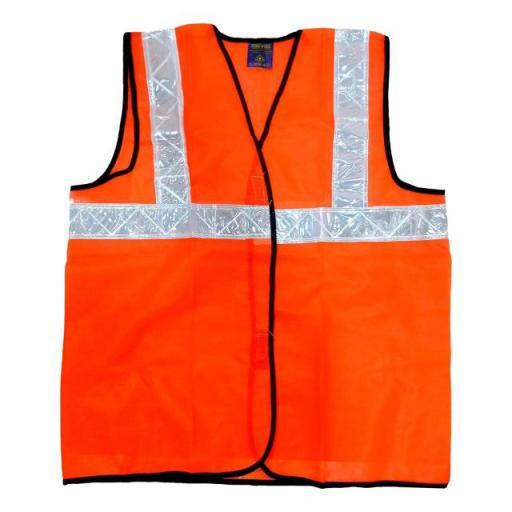vest: (62, 7, 464, 501)
